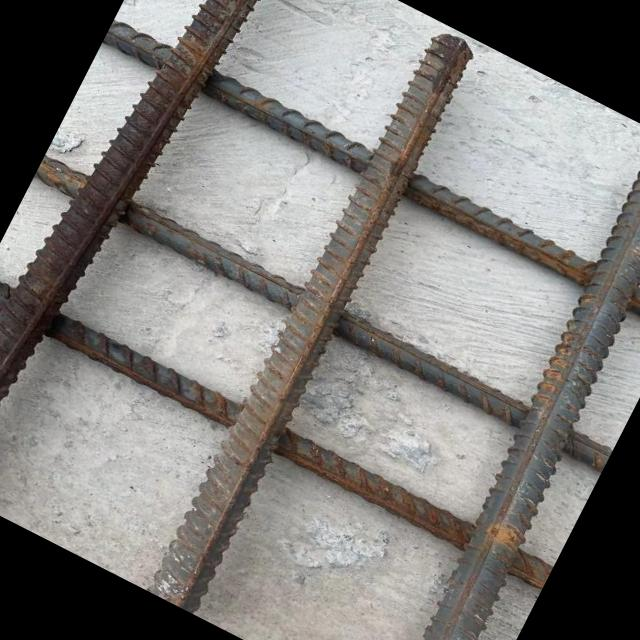ribbed bar: (146, 22, 486, 616), (30, 154, 615, 474), (0, 272, 555, 592), (101, 18, 640, 334), (0, 0, 295, 517), (366, 140, 640, 640)
